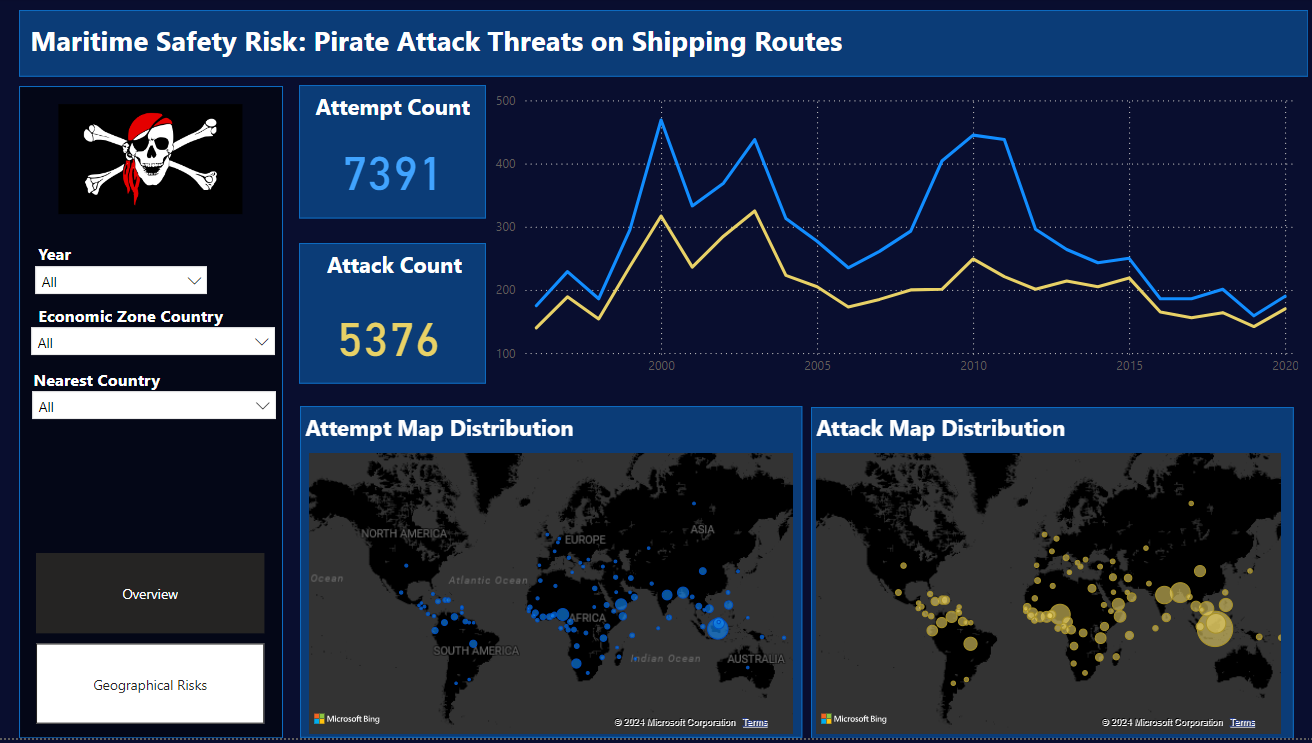

Layout of this report page (visuals, bound fields, positions):
{"tool":"powerbi","page":{"name":"Overview","canvas":[1280,720],"ordinal":0},"visuals":[{"type":"shape","box":[19,12,1254,64.9],"z":0},{"type":"shape","box":[291.8,84.9,181.9,129.9],"z":1000},{"type":"textbox","box":[25,18,834.3,54],"z":2000},{"type":"textbox","box":[287.8,85.9,189.9,48],"z":3000},{"type":"card","fields":{"Values":["StagingPirateAttack.Attmpts_count"]},"box":[322.7,133.9,119.9,62],"z":4000},{"type":"shape","box":[291.8,237.8,181.9,136.9],"z":5000},{"type":"textbox","box":[295.8,238.8,177.9,45],"z":6000},{"type":"card","fields":{"Values":["StagingPirateAttack.Attack_count"]},"box":[317.8,296.8,119.9,61],"z":7000},{"type":"shape","box":[789.4,397.7,469.6,322.7],"z":8000},{"type":"lineChart","fields":{"Category":["DateTable.Year"],"Y":["StagingPirateAttack.Attmpts_count","StagingPirateAttack.Attack_count"]},"box":[477.6,85.9,791.4,289.8],"z":9000},{"type":"map","fields":{"Category":["StagingPirateAttack.nearest_country","StagingPirateAttack.eez_country"],"Series":["StagingPirateAttack.Attack_column"],"Size":["StagingPirateAttack.Attack_count"]},"box":[789.4,437.7,461.6,282.8],"z":10000},{"type":"shape","box":[292.8,397.3,488.6,322.7],"z":11000},{"type":"map","fields":{"Category":["StagingPirateAttack.eez_country","StagingPirateAttack.nearest_country"],"Series":["StagingPirateAttack.Attempt_column"],"Size":["StagingPirateAttack.Attmpts_count"]},"box":[296.8,437.2,480.6,282.8],"z":12000},{"type":"shape","box":[19,85.9,256.8,634.5],"z":13000},{"type":"textbox","box":[789.4,397.7,273.8,40],"z":14000},{"type":"textbox","box":[292.8,397.7,279.8,40],"z":15000},{"type":"slicer","fields":{"Values":["DateTable.Year"]},"box":[25.1,250.5,187.5,49.3],"z":16000},{"type":"textbox","box":[33,232.8,100.9,36],"z":17000},{"type":"textbox","box":[33,292.8,203.8,36],"z":18000},{"type":"slicer","fields":{"Values":["StagingPirateAttack.eez_country"]},"box":[21,310.8,256.8,44],"z":19000},{"type":"textbox","box":[28,354.7,203.8,36],"z":20000},{"type":"slicer","fields":{"Values":["StagingPirateAttack.nearest_country"]},"box":[22,372.7,256.8,41],"z":21000},{"type":"pageNavigator","box":[36,539.6,222.8,166.9],"z":22000},{"type":"image","box":[44,97.9,207.8,116.9],"z":23000}]}

Visuals, with their boxes in screenshot pixels (x1, y1, x2, y2), scaled from the page's 1280x720 canvas onto the 1312x743 screenshot:
shape: {"x1": 19, "y1": 12, "x2": 1305, "y2": 79}
shape: {"x1": 299, "y1": 88, "x2": 486, "y2": 222}
textbox: {"x1": 26, "y1": 19, "x2": 881, "y2": 74}
textbox: {"x1": 295, "y1": 89, "x2": 490, "y2": 138}
card - StagingPirateAttack.Attmpts_count: {"x1": 331, "y1": 138, "x2": 454, "y2": 202}
shape: {"x1": 299, "y1": 245, "x2": 486, "y2": 387}
textbox: {"x1": 303, "y1": 246, "x2": 486, "y2": 293}
card - StagingPirateAttack.Attack_count: {"x1": 326, "y1": 306, "x2": 449, "y2": 369}
shape: {"x1": 809, "y1": 410, "x2": 1290, "y2": 742}
lineChart - DateTable.Year x StagingPirateAttack.Attmpts_count: {"x1": 490, "y1": 89, "x2": 1301, "y2": 388}
map - StagingPirateAttack.nearest_country x StagingPirateAttack.eez_country: {"x1": 809, "y1": 452, "x2": 1282, "y2": 742}
shape: {"x1": 300, "y1": 410, "x2": 801, "y2": 742}
map - StagingPirateAttack.eez_country x StagingPirateAttack.nearest_country: {"x1": 304, "y1": 451, "x2": 797, "y2": 742}
shape: {"x1": 19, "y1": 89, "x2": 283, "y2": 742}
textbox: {"x1": 809, "y1": 410, "x2": 1090, "y2": 452}
textbox: {"x1": 300, "y1": 410, "x2": 587, "y2": 452}
slicer - DateTable.Year: {"x1": 26, "y1": 259, "x2": 218, "y2": 309}
textbox: {"x1": 34, "y1": 240, "x2": 137, "y2": 277}
textbox: {"x1": 34, "y1": 302, "x2": 243, "y2": 339}
slicer - StagingPirateAttack.eez_country: {"x1": 22, "y1": 321, "x2": 285, "y2": 366}
textbox: {"x1": 29, "y1": 366, "x2": 238, "y2": 403}
slicer - StagingPirateAttack.nearest_country: {"x1": 23, "y1": 385, "x2": 286, "y2": 427}
pageNavigator: {"x1": 37, "y1": 557, "x2": 265, "y2": 729}
image: {"x1": 45, "y1": 101, "x2": 258, "y2": 222}
